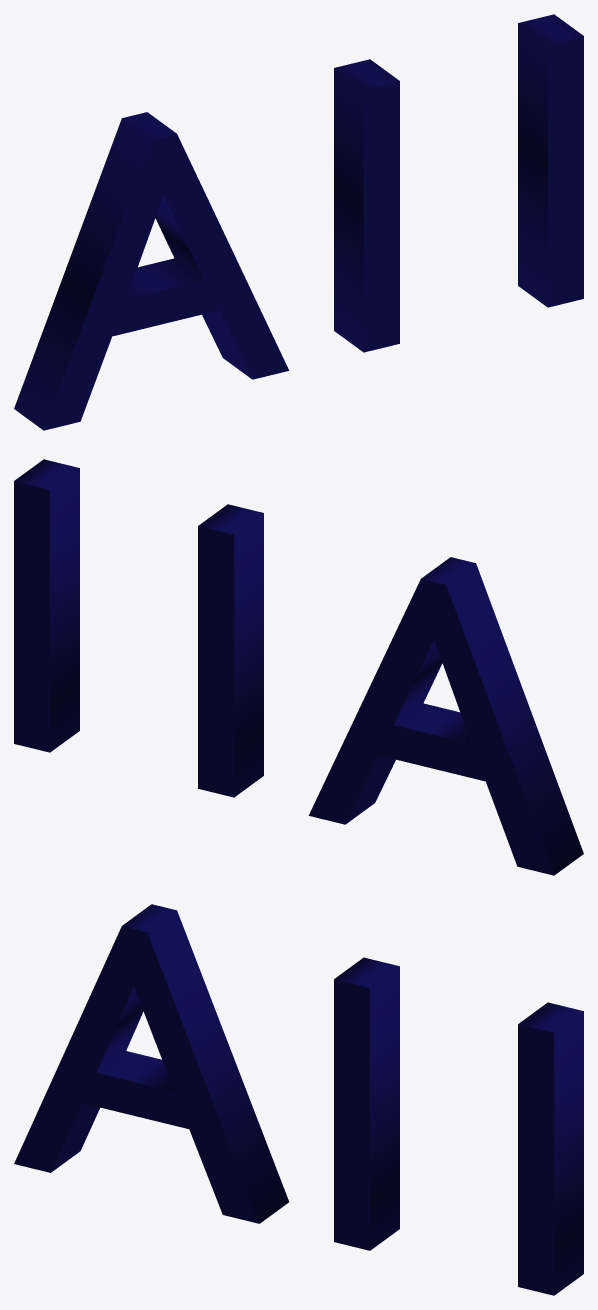
The picture shows the model from 3 angles, top to bottom: view 1: azimuth 30°, elevation 25°; view 2: azimuth 150°, elevation 25°; view 3: azimuth 330°, elevation 25°; orthographic projection.
Visible parts, largest first — view 1: Text; view 2: Text; view 3: Text.
Boxes of the visible parts, x1=… form: Text: x1=14, y1=14, x2=583, y2=430; Text: x1=14, y1=459, x2=583, y2=875; Text: x1=14, y1=904, x2=583, y2=1295.
Bounding box in the file's own units: 147 × 68.6 × 14.
